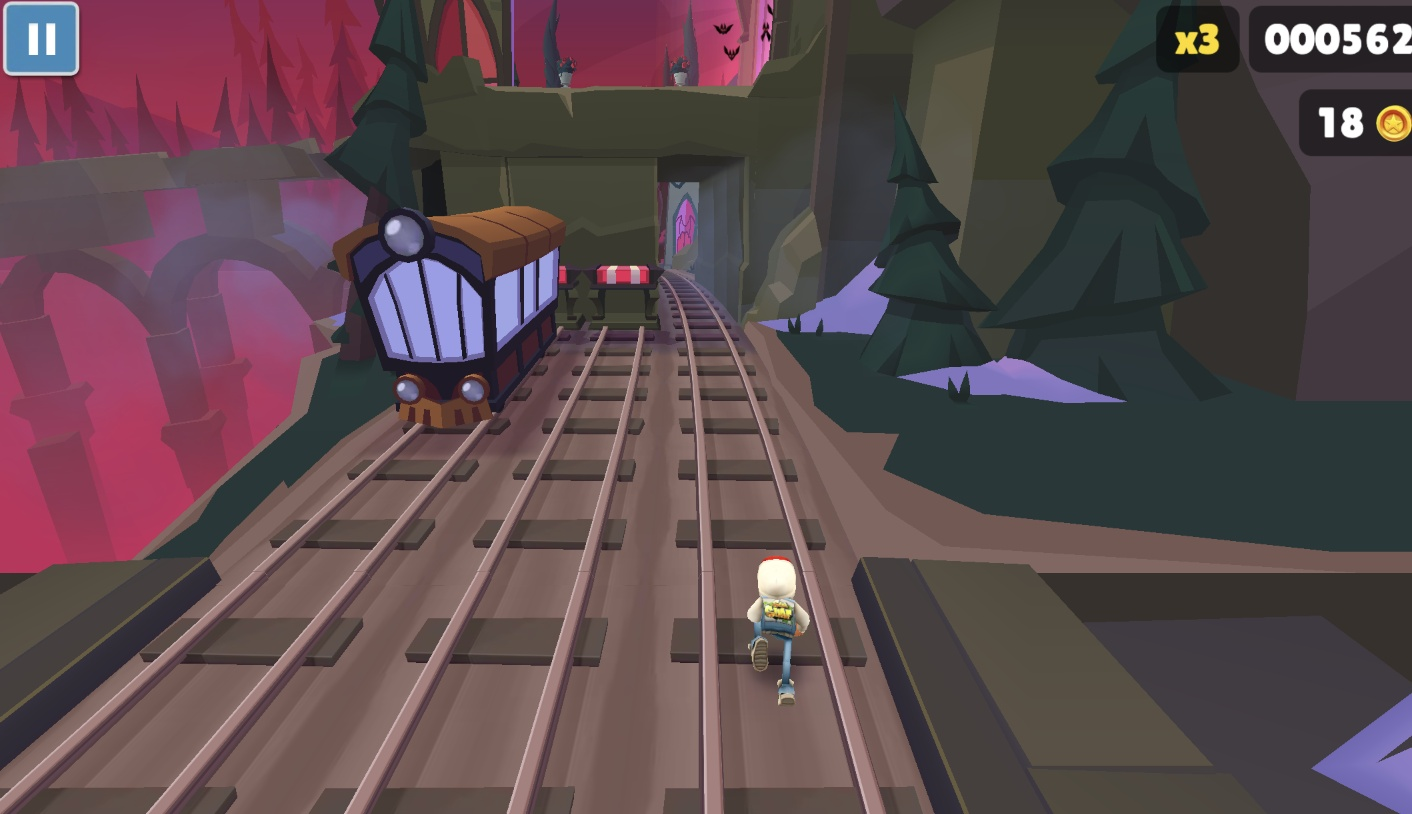ground_barrier: (584, 266, 664, 336), (566, 266, 596, 336)
train: (332, 205, 566, 432)
